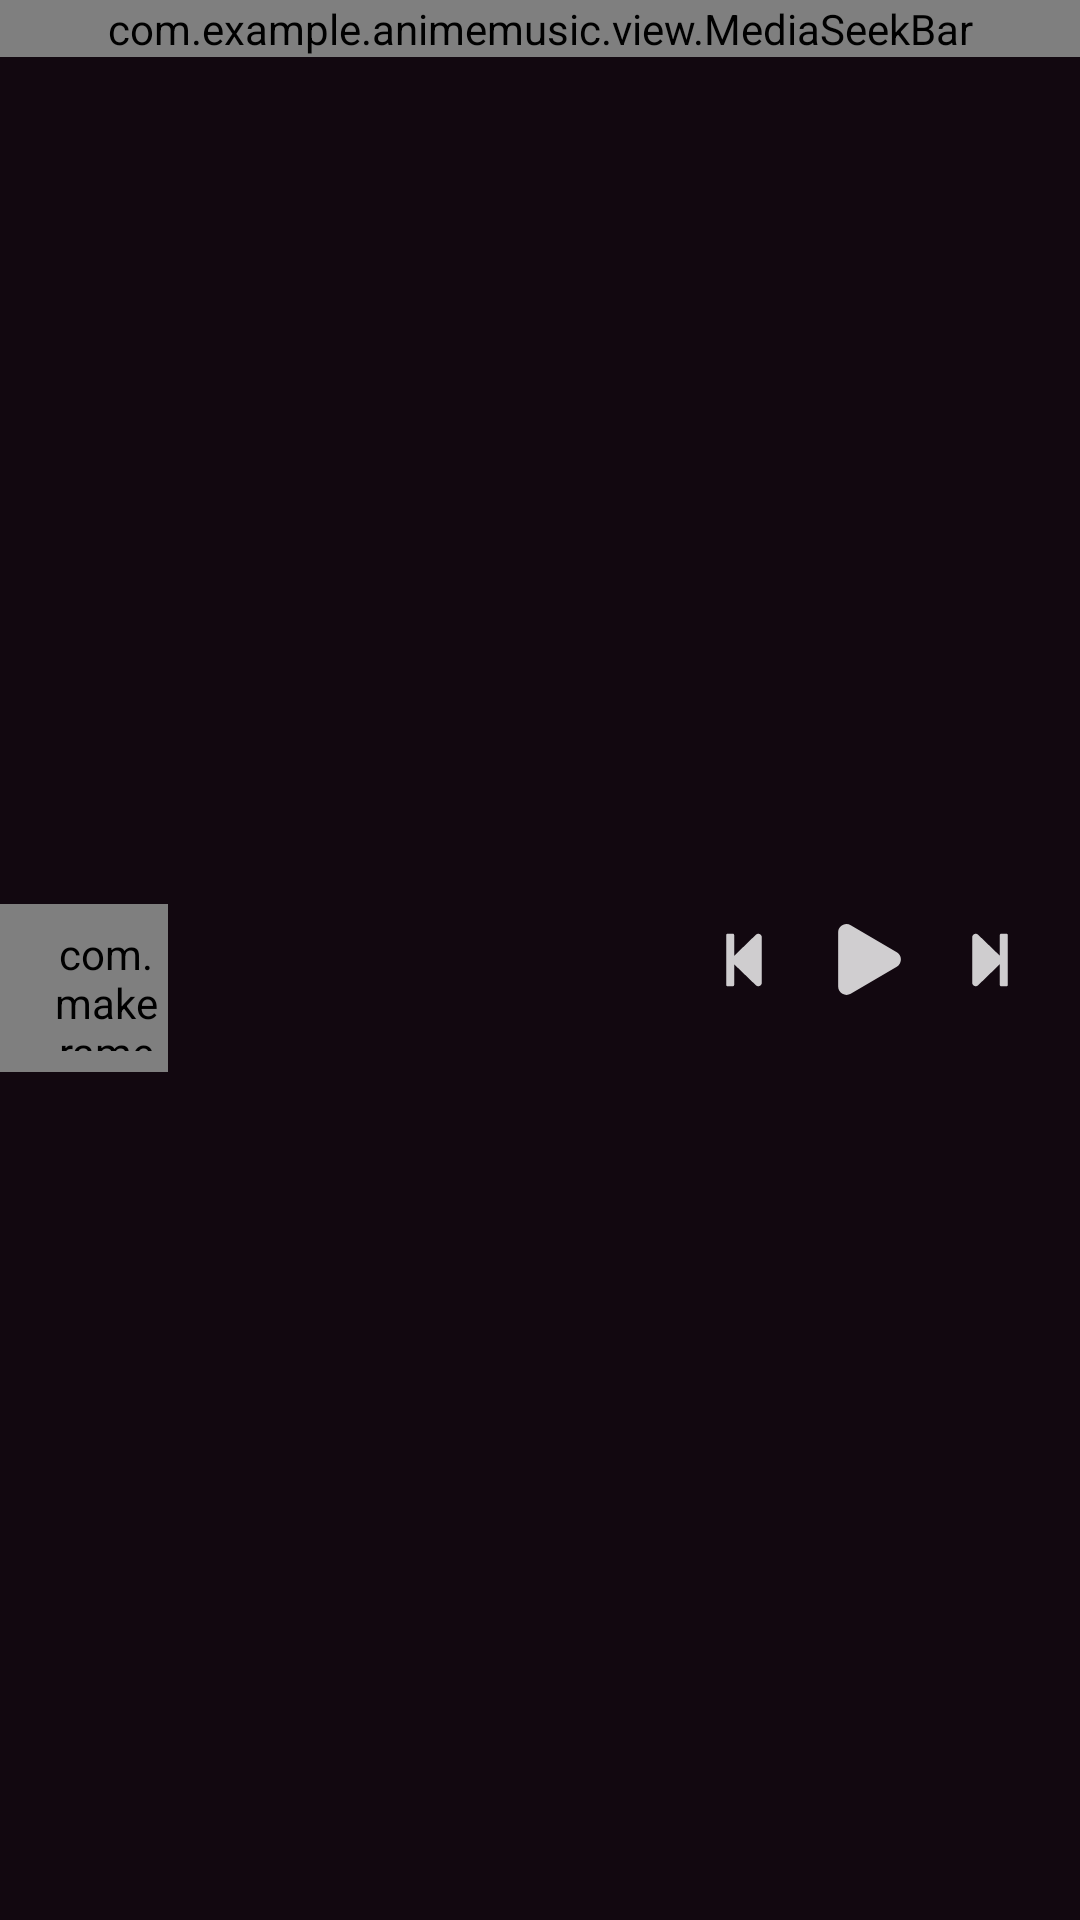

Icons on this 1080w x 1920h Android screen, each with the point to tap as (x,y):
mini play: (869,959)
step backward: (744,960)
step forward: (990,960)
